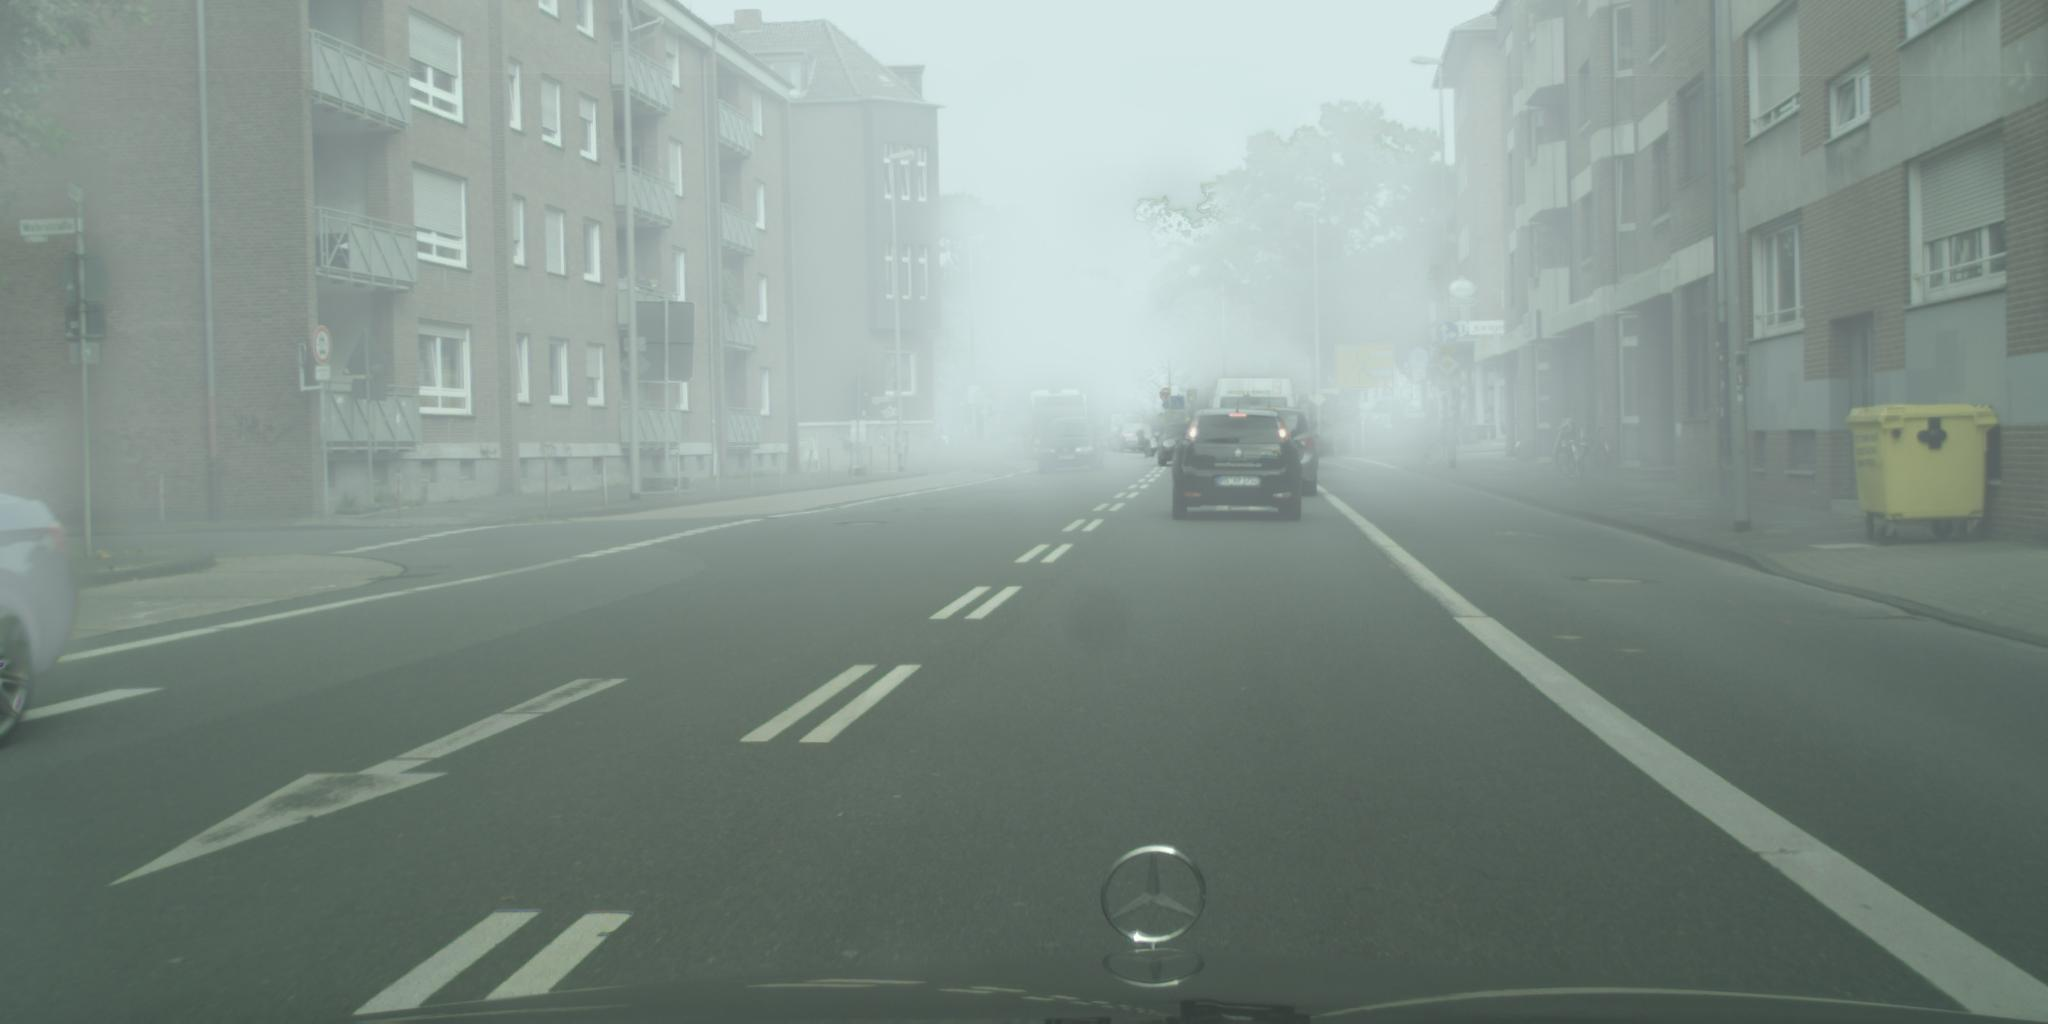bicycle: (1567, 422, 1612, 481), (1554, 421, 1586, 481), (1422, 426, 1445, 468)
bus: (1016, 389, 1093, 462)
car: (1, 492, 78, 741), (1162, 409, 1307, 522), (1246, 408, 1320, 498), (1036, 417, 1105, 475), (1213, 377, 1297, 417), (1155, 421, 1196, 468), (1095, 415, 1144, 453), (1112, 423, 1155, 455)
